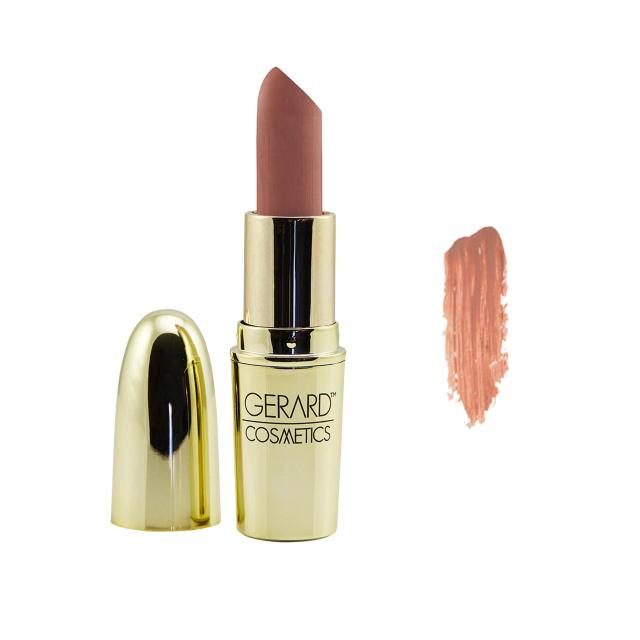lipstick: (91, 44, 369, 561)
